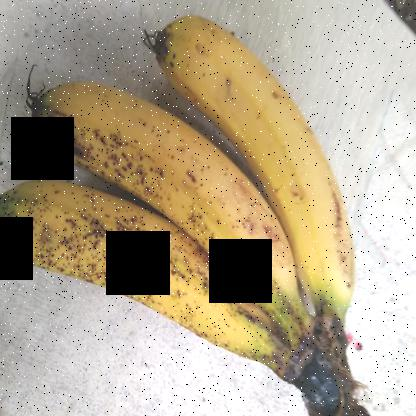freshripe: (157, 8, 356, 311)
ripe: (28, 69, 292, 318), (0, 175, 272, 378)
